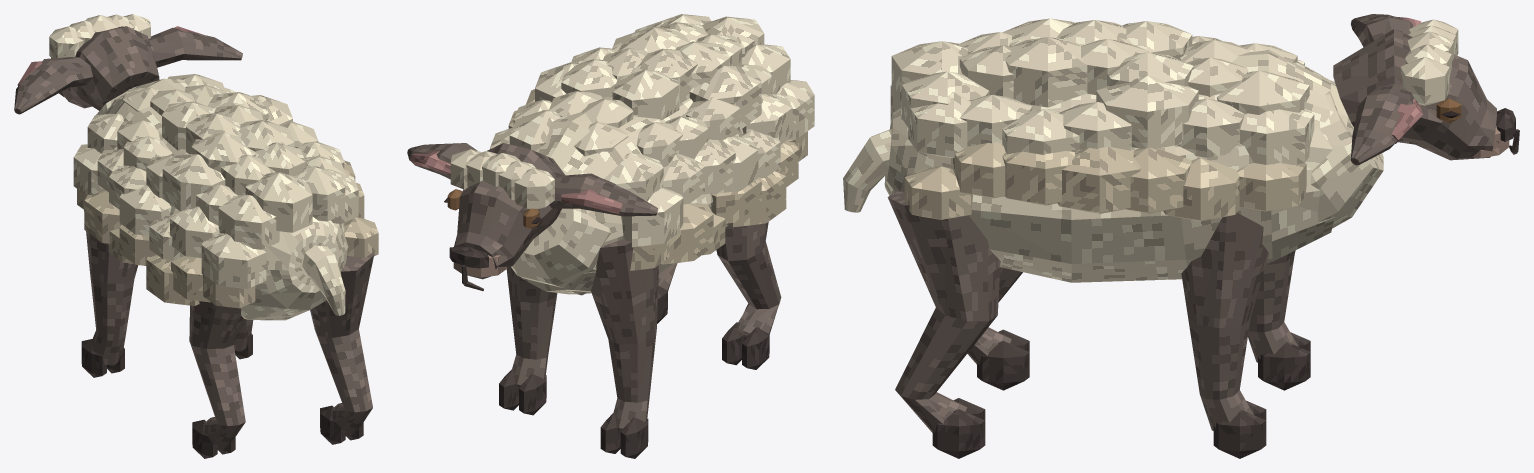
Rendered from mon_sheep_lamb.glb.
3 views of the same model, side by side, from view 1: azimuth 30°, elevation 25°; view 2: azimuth 150°, elevation 25°; view 3: azimuth 270°, elevation 25° (orthographic). The views are drawn at different scales.
Parts seen in each view (by area): view 1: closed_body; view 2: closed_body; view 3: closed_body.
Part boxes in pixels (x1,y1,x2,y2): closed_body: (14,14,378,458); closed_body: (407,14,814,458); closed_body: (843,14,1519,458).
Size of the model in its own units: 0.5017 by 0.6456 by 1.02.
Materials: 1 (1 with a texture image).
